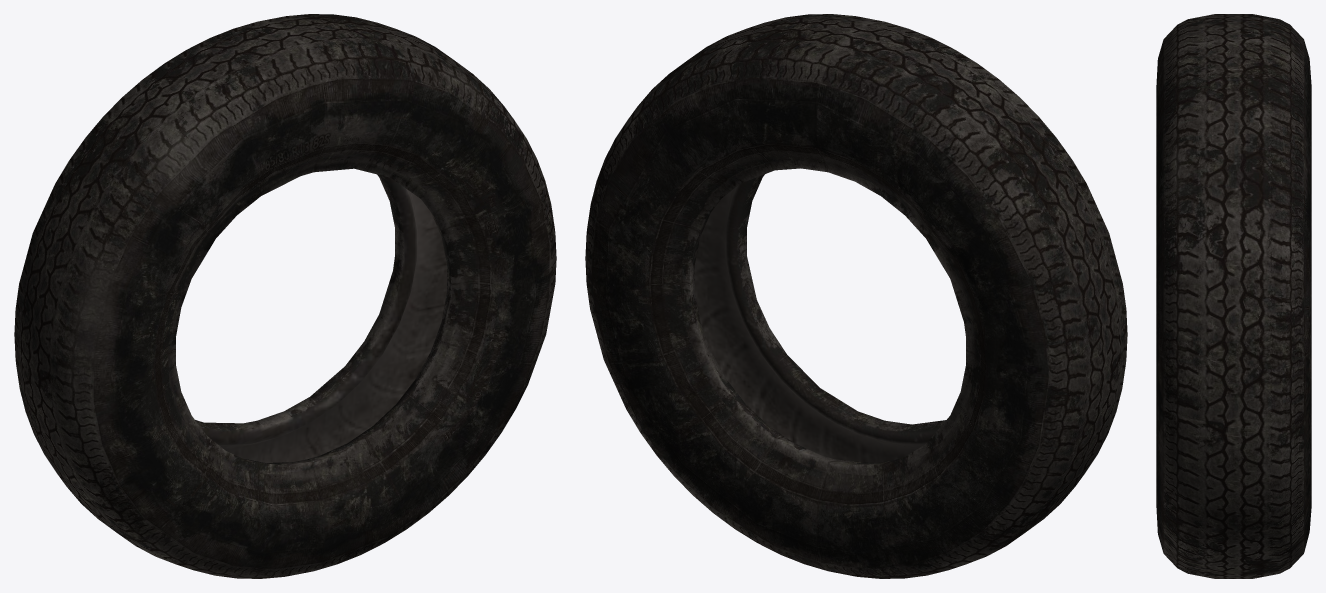
Rendered from old_tyre_2k.gltf.
The picture shows the model from 3 angles, left to right: view 1: azimuth 30°, elevation 25°; view 2: azimuth 150°, elevation 25°; view 3: azimuth 270°, elevation 25°; orthographic projection. The views are drawn at different scales.
Parts seen in each view (by area): view 1: old_tyre; view 2: old_tyre; view 3: old_tyre.
Boxes of the visible parts, bbox=[...] form: old_tyre: bbox=[14, 14, 556, 578]; old_tyre: bbox=[585, 14, 1127, 578]; old_tyre: bbox=[1156, 14, 1311, 578].
Bounding box in the file's own units: 0.6 × 0.6 × 0.165.
1 material, 1 textured.
